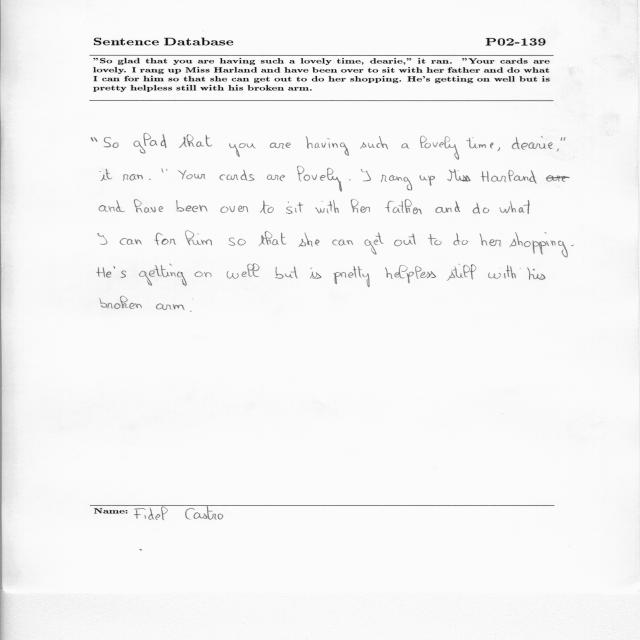word: (509, 232, 568, 257), (297, 166, 342, 192), (481, 170, 570, 183), (139, 264, 187, 286), (420, 136, 459, 160), (385, 265, 436, 283), (306, 136, 349, 156), (334, 266, 370, 287), (134, 134, 167, 154), (512, 136, 553, 150), (385, 200, 422, 215), (100, 296, 142, 309), (227, 264, 260, 279), (447, 264, 476, 281), (179, 134, 213, 148), (381, 175, 412, 190), (488, 265, 521, 279), (365, 232, 384, 255), (220, 169, 255, 181), (500, 200, 530, 214), (259, 231, 287, 246), (134, 199, 163, 213), (185, 231, 212, 246), (229, 143, 256, 157), (176, 200, 207, 212), (360, 136, 388, 149), (299, 232, 320, 247), (447, 169, 471, 182), (99, 200, 125, 212), (315, 200, 339, 213), (436, 201, 461, 213), (275, 266, 298, 279), (466, 138, 493, 149), (394, 234, 416, 247), (480, 234, 502, 247), (351, 199, 370, 213), (154, 233, 176, 245), (178, 170, 205, 179), (527, 267, 545, 280), (286, 201, 303, 214), (221, 206, 249, 213), (259, 201, 274, 214), (473, 202, 489, 214), (453, 233, 468, 245), (104, 137, 119, 148), (420, 175, 435, 186), (114, 266, 127, 278), (120, 238, 142, 245), (428, 234, 442, 245), (98, 267, 112, 278), (270, 142, 291, 149), (100, 169, 112, 181), (228, 238, 246, 246), (123, 174, 143, 181), (310, 267, 321, 279), (267, 174, 285, 181), (332, 240, 353, 246), (361, 169, 371, 181), (156, 303, 172, 310), (98, 233, 107, 245), (195, 272, 212, 278), (173, 304, 185, 310), (402, 143, 410, 149), (92, 137, 98, 142), (162, 168, 168, 173), (561, 137, 566, 141), (498, 147, 501, 151), (557, 149, 559, 152), (571, 245, 574, 246), (149, 179, 151, 180), (349, 180, 351, 181)
